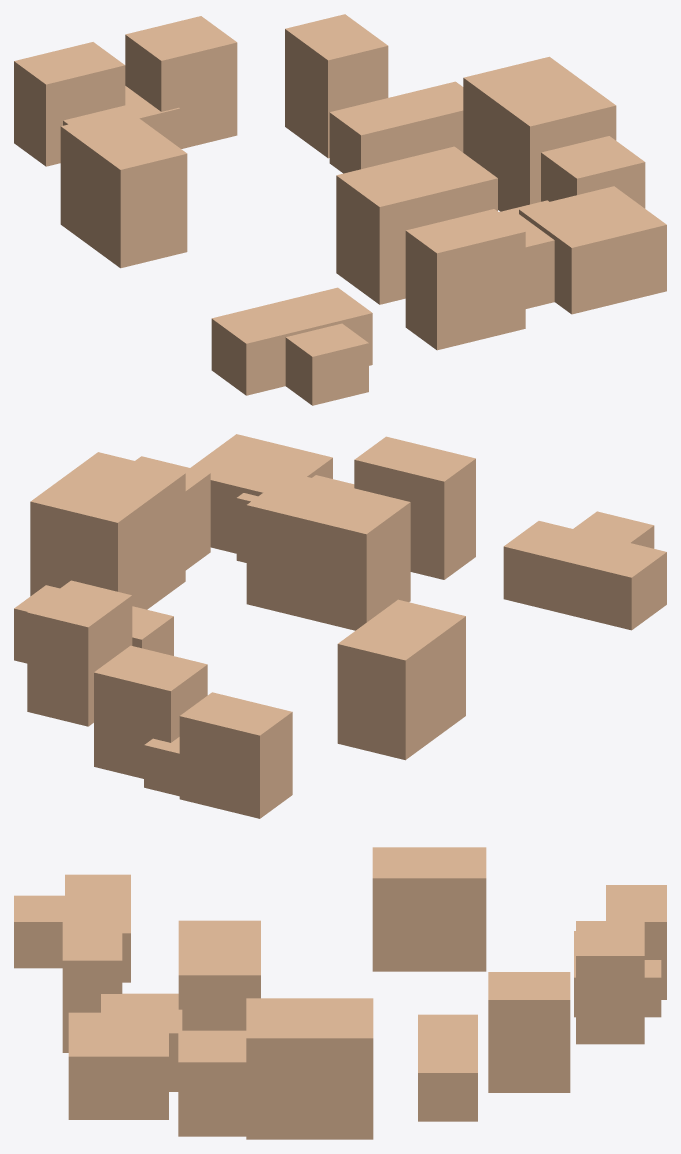
The picture shows the model from 3 angles, top to bottom: view 1: azimuth 30°, elevation 25°; view 2: azimuth 150°, elevation 25°; view 3: azimuth 270°, elevation 25°; orthographic projection. The views are drawn at different scales.
Size of the model in its own units: 109 by 23.94 by 140.
